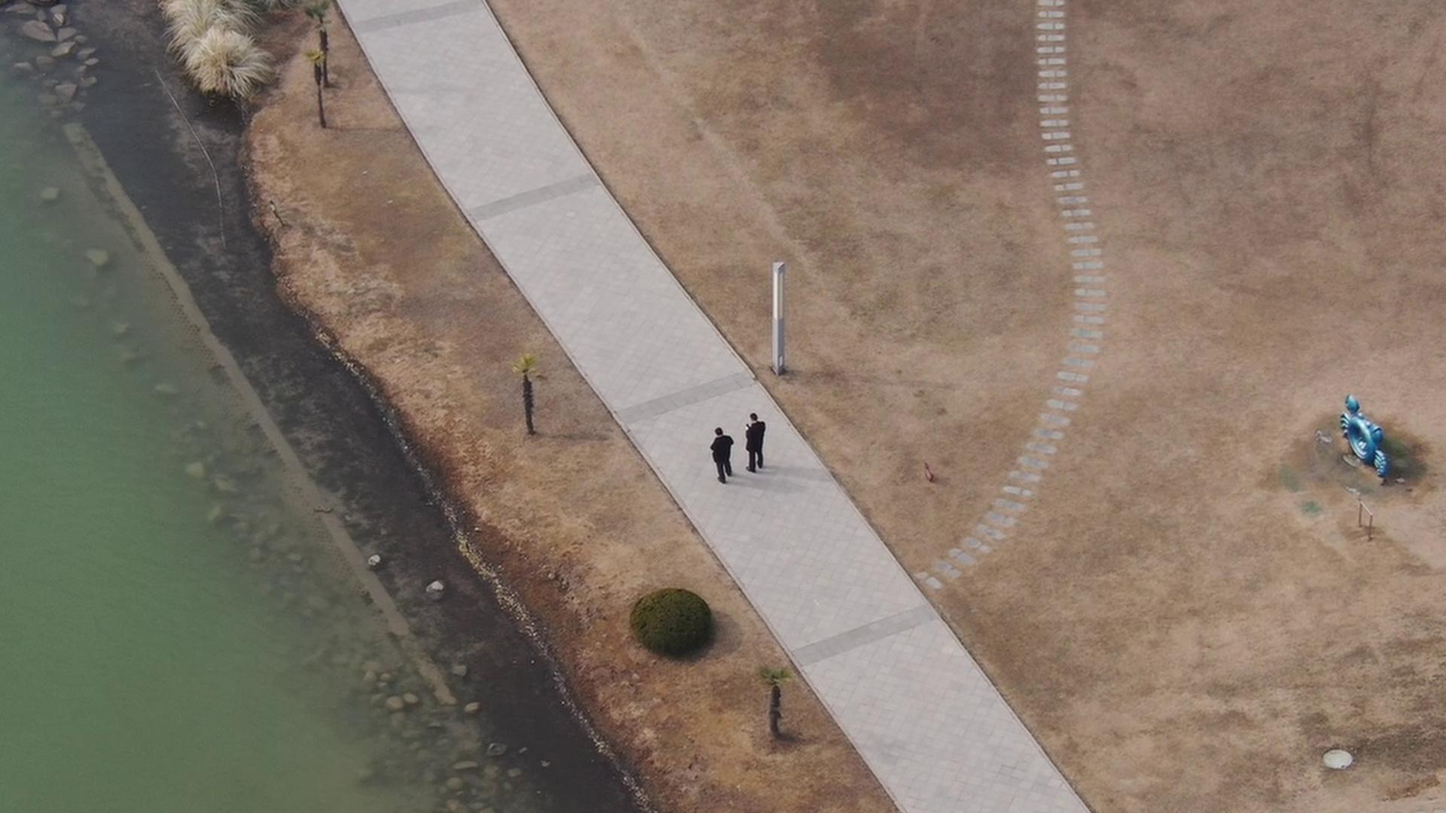human: (725, 399, 758, 471), (692, 414, 725, 482)
